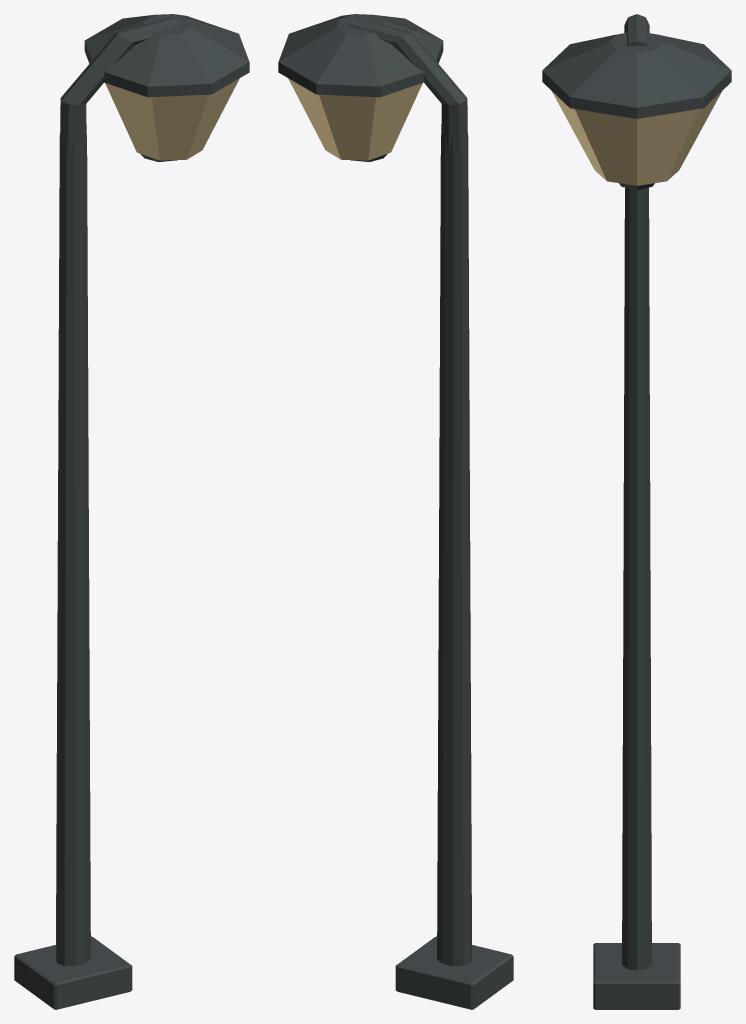
File: streetlamp.glb
3 renders of one model, left to right at view 1: azimuth 30°, elevation 25°; view 2: azimuth 150°, elevation 25°; view 3: azimuth 270°, elevation 25°, orthographic. The views are drawn at different scales.
Visible parts, largest first — view 1: Square anchored plinth; view 2: Square anchored plinth; view 3: Square anchored plinth.
Boxes of the visible parts, x1=… form: Square anchored plinth: x1=14, y1=14, x2=249, y2=1009; Square anchored plinth: x1=278, y1=14, x2=513, y2=1009; Square anchored plinth: x1=542, y1=14, x2=731, y2=1009.
Size of the model in its own units: 1.14 by 5 by 0.8579.
